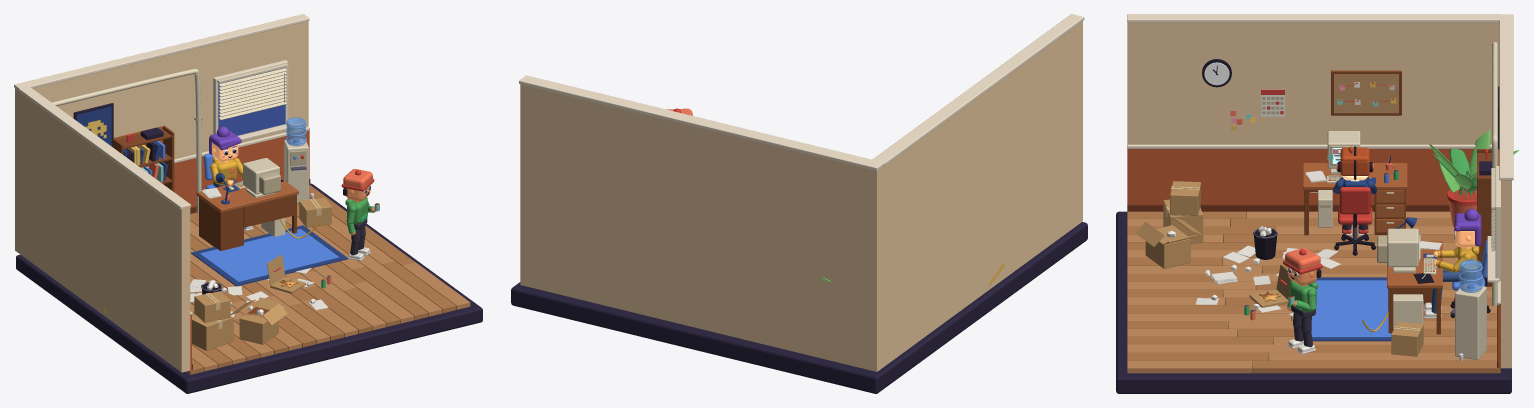
The model's file is stage1.glb.
3 views of the same model, side by side, from view 1: azimuth 30°, elevation 25°; view 2: azimuth 150°, elevation 25°; view 3: azimuth 270°, elevation 25° (orthographic). The views are drawn at different scales.
Visible parts, largest first — view 1: Room_Mesh, Desk_02_Mesh, Window_Mesh, Shelf_01_Mesh, Dev_03_Mesh, Cooler_01_Mesh, Box_03_Mesh, Dev_02_Mesh, Box_01_Mesh, WallDeco_Mesh, Box_02_Mesh, Clutter_Mesh (+2 smaller); view 2: Room_Mesh; view 3: Room_Mesh, Desk_02_Mesh, WallDeco_Mesh, Desk_01_Mesh, Cooler_01_Mesh, Dev_03_Mesh, Dev_02_Mesh, Plant_01_Mesh, Box_03_Mesh, Chair_01_Mesh, Clutter_Mesh, Dev_01_Mesh (+8 smaller).
Part boxes in pixels (x1,y1,x2,y2): Room_Mesh: (14,14,482,393); Desk_02_Mesh: (196,157,321,250); Window_Mesh: (213,60,293,140); Shelf_01_Mesh: (112,125,174,191); Dev_03_Mesh: (341,169,379,260); Cooler_01_Mesh: (284,117,313,203); Box_03_Mesh: (230,297,287,344); Dev_02_Mesh: (209,126,253,230); Box_01_Mesh: (192,315,233,350); WallDeco_Mesh: (73,103,113,146); Box_02_Mesh: (194,291,230,322); Clutter_Mesh: (190,267,331,316); Room_Mesh: (511,14,1087,393); Room_Mesh: (1116,14,1513,393); Desk_02_Mesh: (1362,217,1442,334); WallDeco_Mesh: (1202,59,1499,149); Desk_01_Mesh: (1303,131,1407,235); Cooler_01_Mesh: (1450,259,1486,361); Dev_03_Mesh: (1283,247,1322,354); Dev_02_Mesh: (1424,208,1481,318); Plant_01_Mesh: (1429,130,1519,227); Box_03_Mesh: (1135,217,1202,268); Chair_01_Mesh: (1334,187,1376,255); Clutter_Mesh: (1195,245,1340,320); Dev_01_Mesh: (1333,146,1377,235).
Size of the model in its own units: 5.41 by 3.15 by 5.4.
